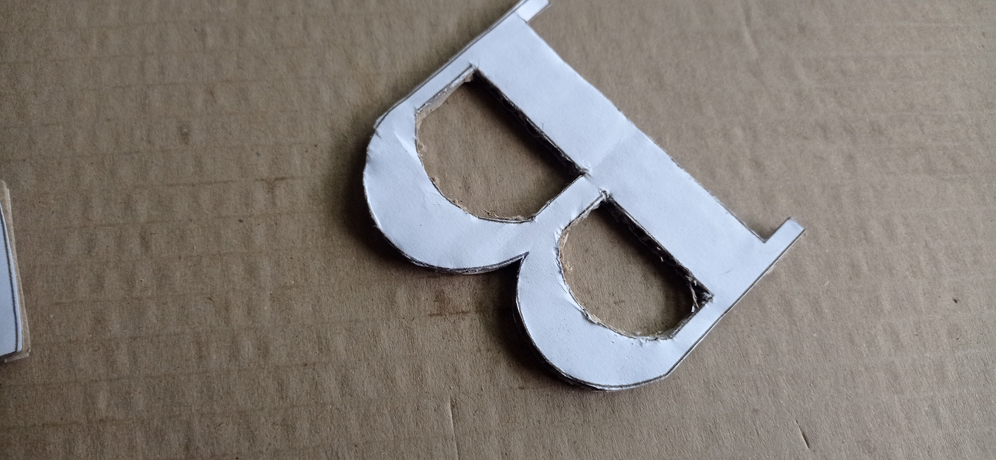v: (362, 0, 808, 394)
